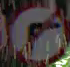Don't turn right: (9, 3, 66, 66)
